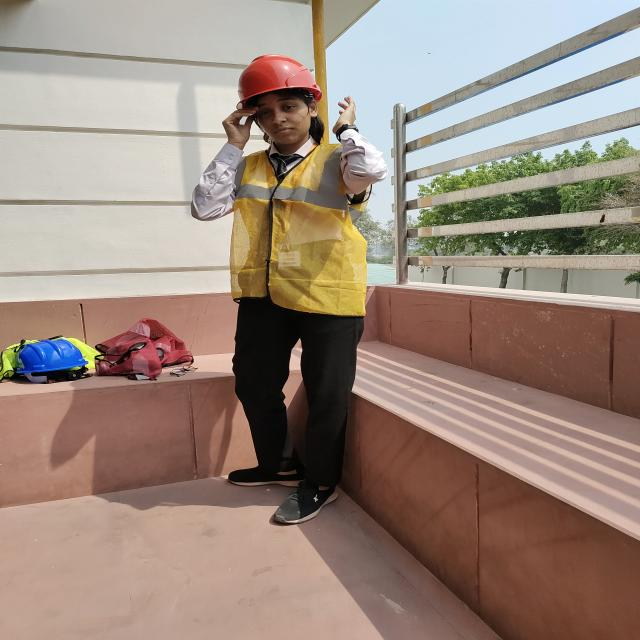safe: (194, 55, 386, 528)
